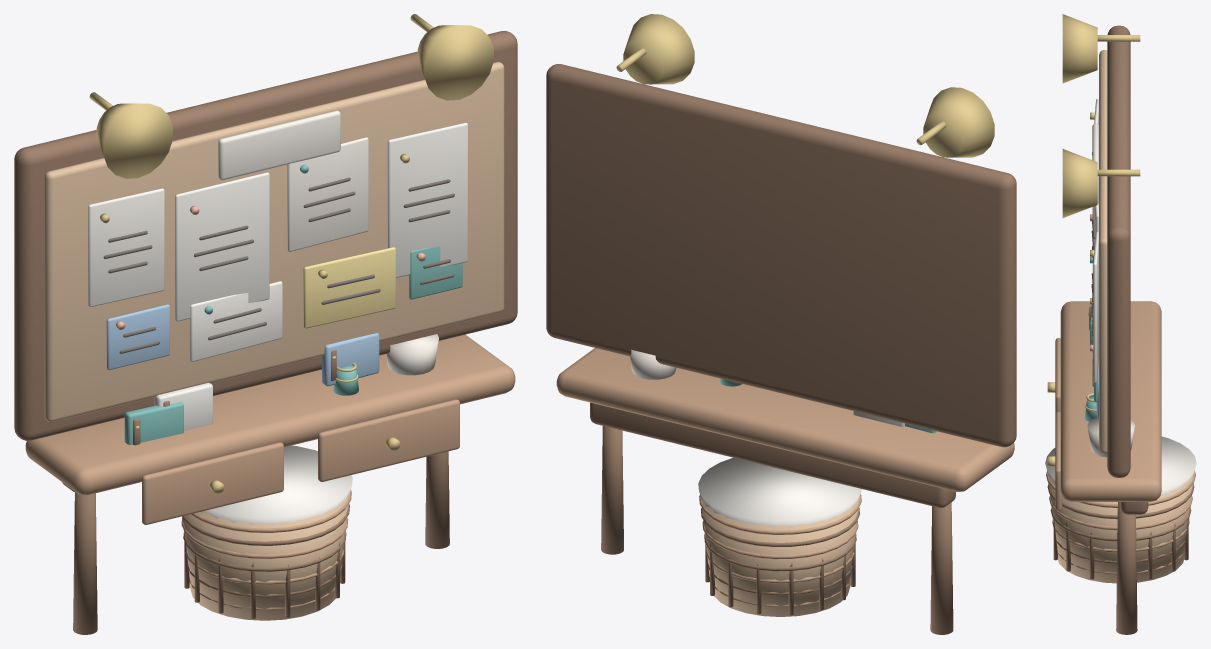
The model's file is civic-notice-console.glb.
3 views of the same model, side by side, from view 1: azimuth 30°, elevation 25°; view 2: azimuth 150°, elevation 25°; view 3: azimuth 270°, elevation 25° (orthographic). The views are drawn at different scales.
Visible parts, largest first — view 1: NoticeCork, NoticeFrame, NoticeConsoleTop, NoticePaper_2, NoticeBasketCore, NoticePaper_4, NoticePaper_1, NoticeDrawer_-1, NoticeDrawer_1, NoticePaper_3, NoticePaper_7, NoticeTitle (+16 smaller); view 2: NoticeFrame, NoticeConsoleTop, NoticeBasketCore, NoticeBasketLiner, NoticeConsoleApron, NoticeLampShade_-1, NoticeLampShade_1, NoticeConsoleLeg_-0.9, NoticeConsoleLeg_0.9, NoticePlant_pot, NoticeBasketRing_7, NoticeBasketRing_6 (+2 smaller); view 3: NoticeConsoleTop, NoticeFrame, NoticeBasketCore, NoticeCork, NoticeConsoleLeg_0.9, NoticeLampShade_-1, NoticeLampShade_1, NoticeBasketLiner, NoticePaper_4, NoticeDrawer_1, NoticeBasketRing_6, NoticeBasketRing_5 (+10 smaller).
Part boxes in pixels (<box>): NoticeCork: <box>44,62,504,421</box>; NoticeFrame: <box>14,30,517,440</box>; NoticeConsoleTop: <box>25,334,515,495</box>; NoticePaper_2: <box>175,172,269,321</box>; NoticeBasketCore: <box>182,491,350,620</box>; NoticePaper_4: <box>387,122,467,277</box>; NoticePaper_1: <box>88,188,164,307</box>; NoticeDrawer_-1: <box>142,442,283,524</box>; NoticeDrawer_1: <box>318,399,459,481</box>; NoticePaper_3: <box>287,137,368,251</box>; NoticePaper_7: <box>303,247,395,328</box>; NoticeTitle: <box>218,110,340,180</box>; NoticeFrame: <box>546,64,1016,447</box>; NoticeConsoleTop: <box>556,348,1014,491</box>; NoticeBasketCore: <box>700,495,860,616</box>; NoticeBasketLiner: <box>698,457,862,527</box>; NoticeConsoleApron: <box>590,402,955,507</box>; NoticeLampShade_-1: <box>923,87,994,157</box>; NoticeLampShade_1: <box>623,14,694,84</box>; NoticeConsoleLeg_-0.9: <box>930,502,953,634</box>; NoticeConsoleLeg_0.9: <box>601,426,623,554</box>; NoticePlant_pot: <box>630,349,676,379</box>; NoticeBasketRing_7: <box>699,494,861,534</box>; NoticeBasketRing_6: <box>701,508,859,546</box>; NoticeConsoleTop: <box>1060,301,1161,501</box>; NoticeFrame: <box>1107,25,1130,477</box>; NoticeBasketCore: <box>1047,472,1194,583</box>; NoticeCork: <box>1099,50,1107,453</box>; NoticeConsoleLeg_0.9: <box>1116,502,1137,634</box>; NoticeLampShade_-1: <box>1062,14,1097,83</box>; NoticeLampShade_1: <box>1062,149,1097,217</box>; NoticeBasketLiner: <box>1045,436,1196,494</box>; NoticePaper_4: <box>1093,231,1098,382</box>; NoticeDrawer_1: <box>1055,411,1062,510</box>; NoticeBasketRing_6: <box>1047,483,1194,519</box>; NoticeBasketRing_5: <box>1049,496,1192,530</box>.
Size of the model in its own units: 2.55 by 2.68 by 0.78.
